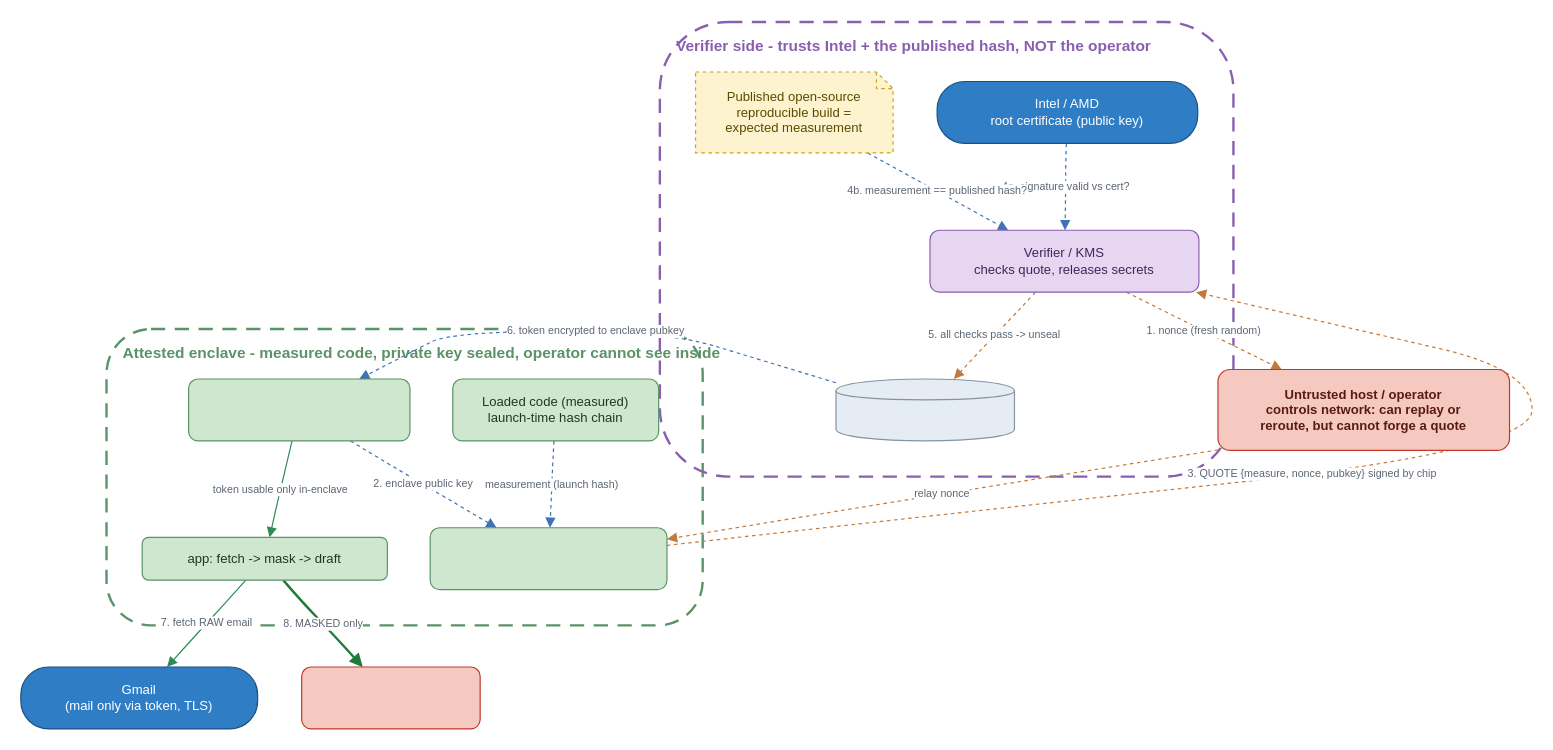
The diagram is 1553 pixels wide and 750 high, and some of its shapes have lost their labels. Each missing label, with the centre of its shape:
CPU root of trust measures + signs the quote: point (548, 558)
Enclave keypair private key never leaves: point (298, 409)
Sealed OAuth token encrypted at rest: point (924, 409)
Untrusted LLM (masked text only): point (390, 697)
